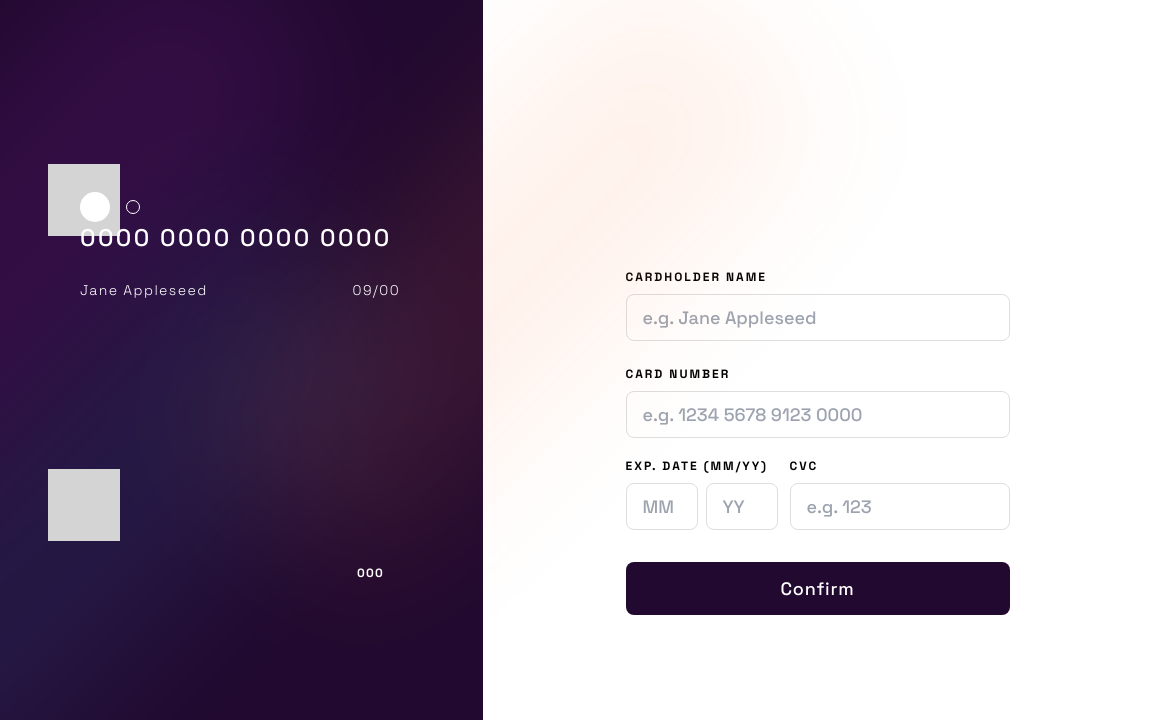
Scenario: Submit validation › Blank inputs validation › Should show a message if input card name is blank
The width and height of the screenshot is (1152, 720).
Step 1. Type "0000001223444540" into the field labelled "CARD NUMBER" → (818, 414), box [626,391,1010,438]
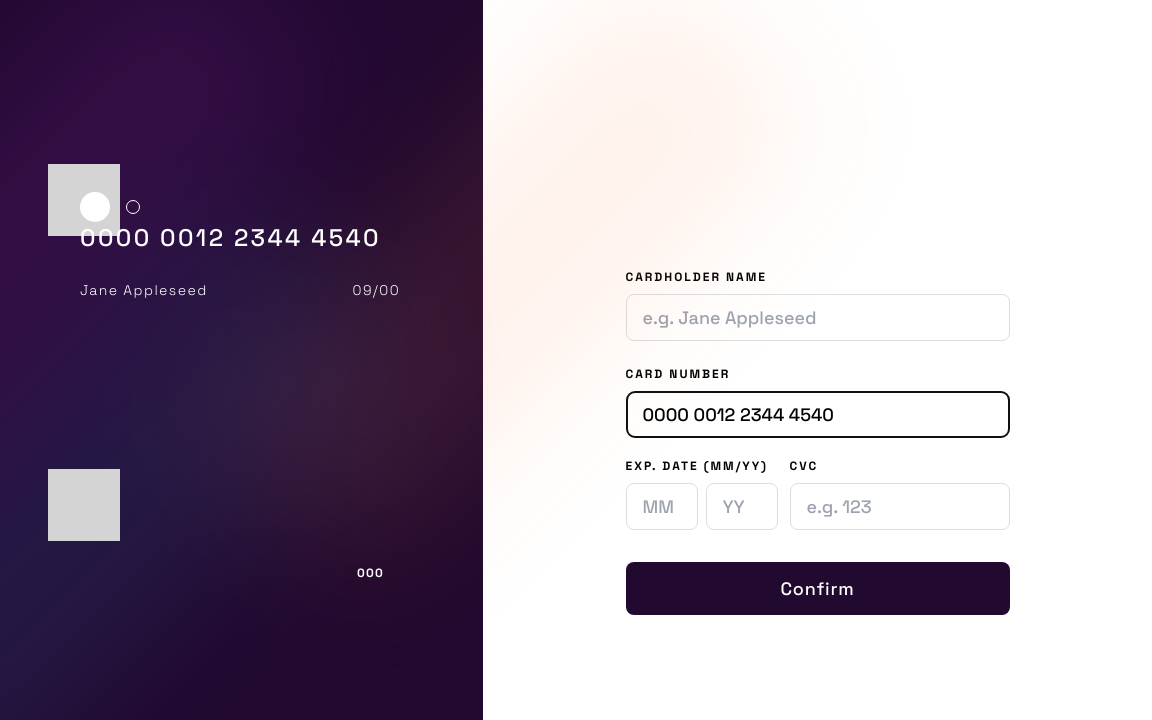
Step 2. Type "200" into the field labelled "CVC" → (900, 506), box [790,483,1010,530]
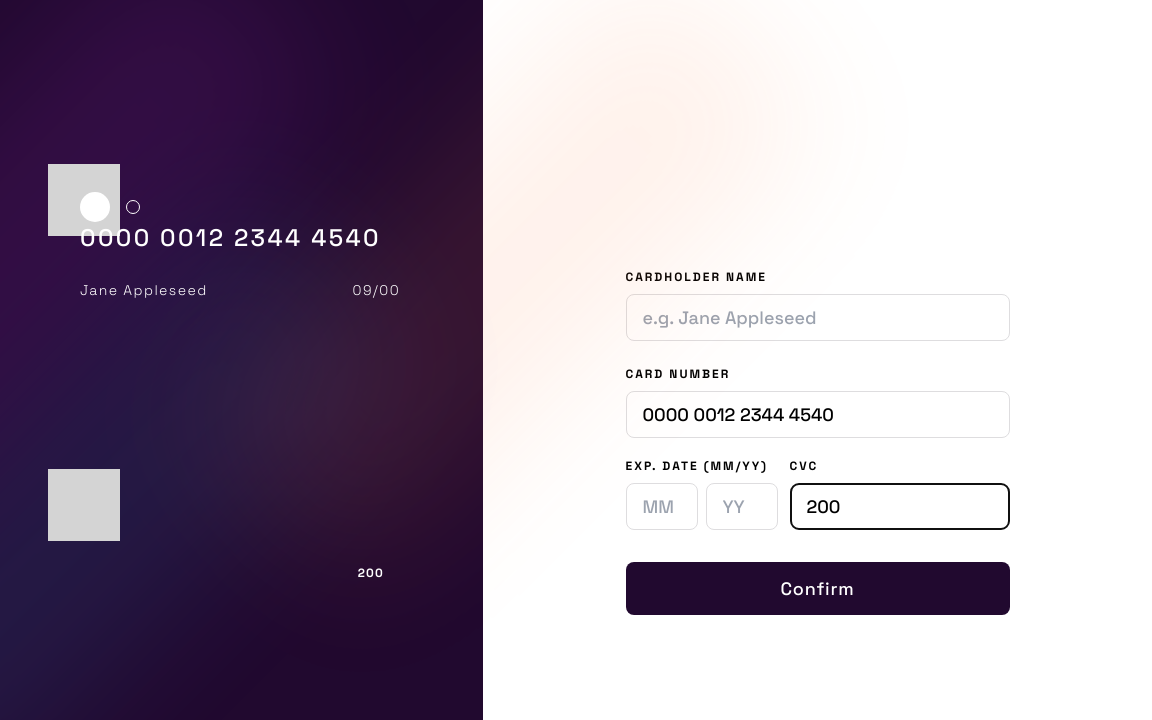
Step 3. Type "30" into the field with test id "expiredDateYear" → (742, 506), box [706,483,778,530]
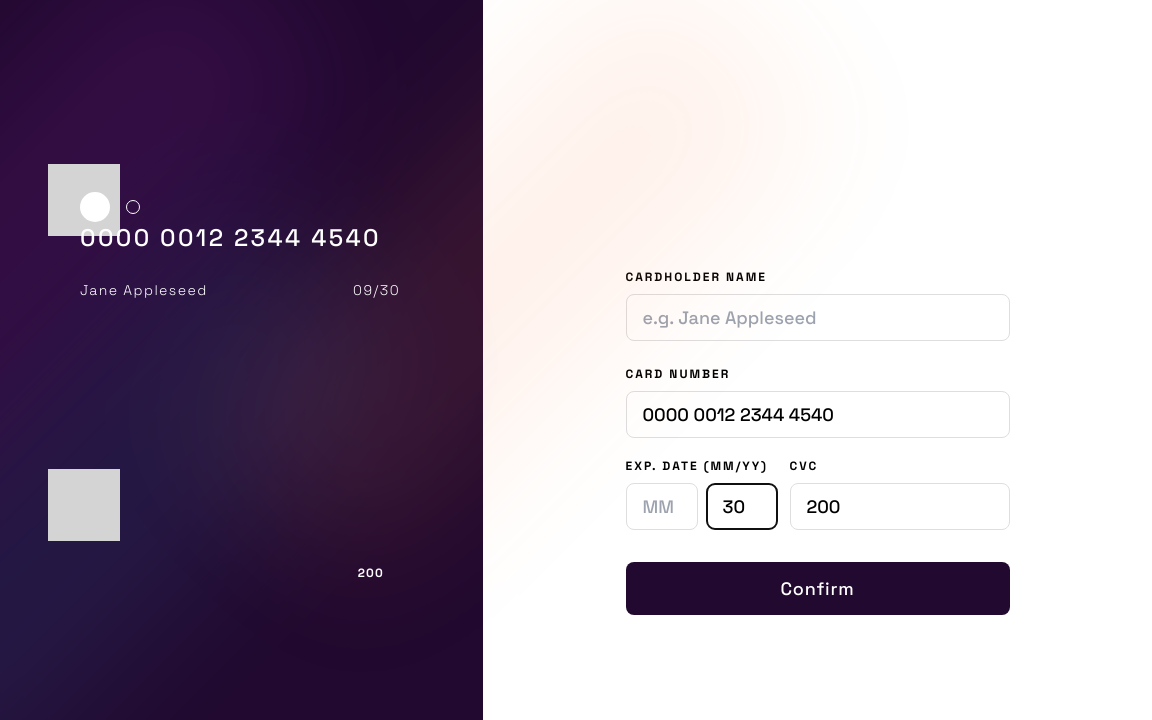
Step 4. Type "20" into the field labelled "EXP. DATE (MM/YY)" → (662, 506), box [626,483,698,530]
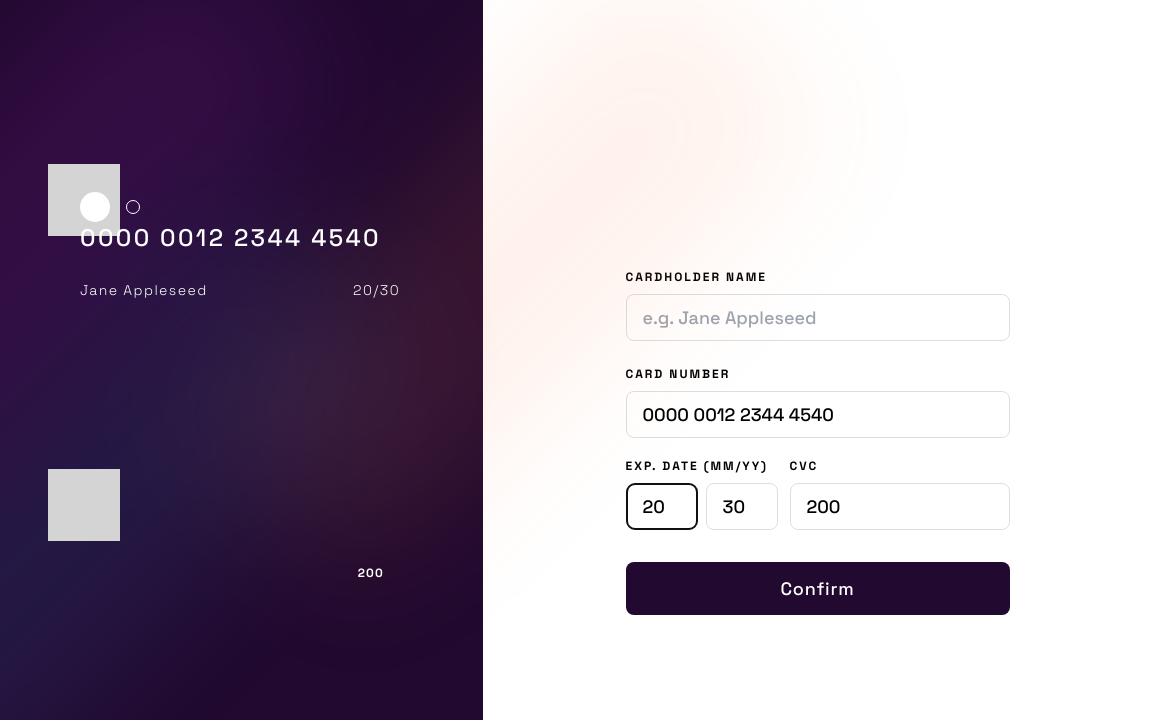
Step 5. Click the button → (818, 588), box [626,562,1010,615]
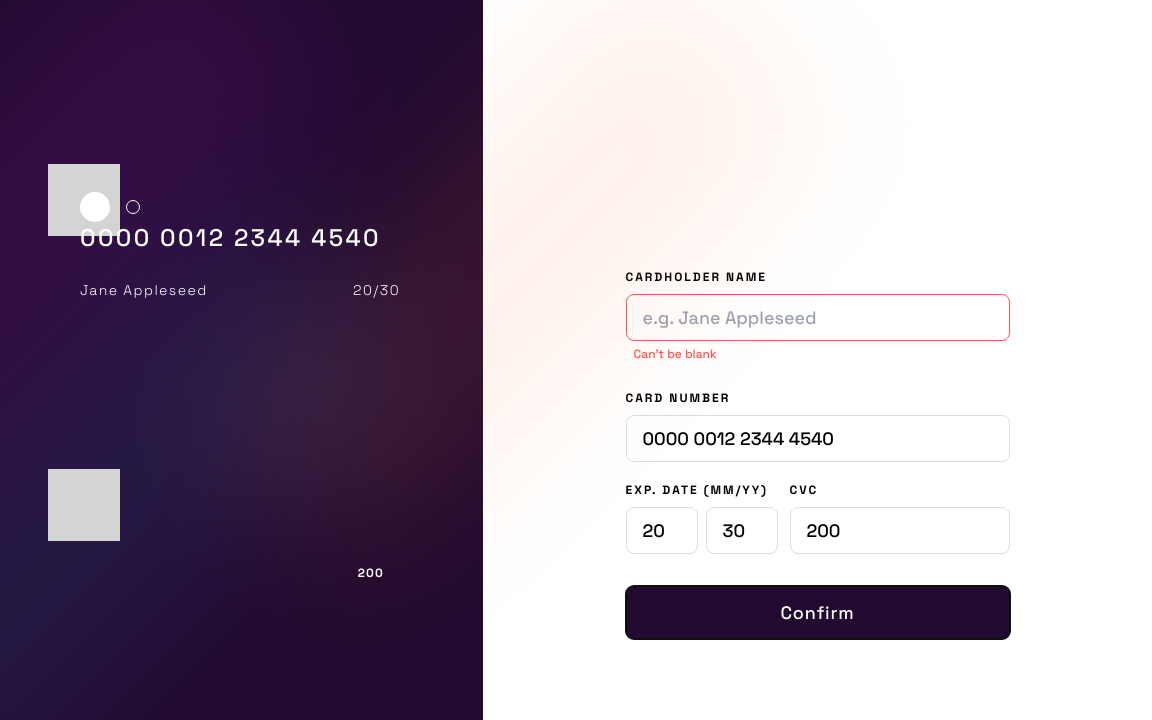
Expected: the text "Can't be blank" is shown, [634,346,717,362]
